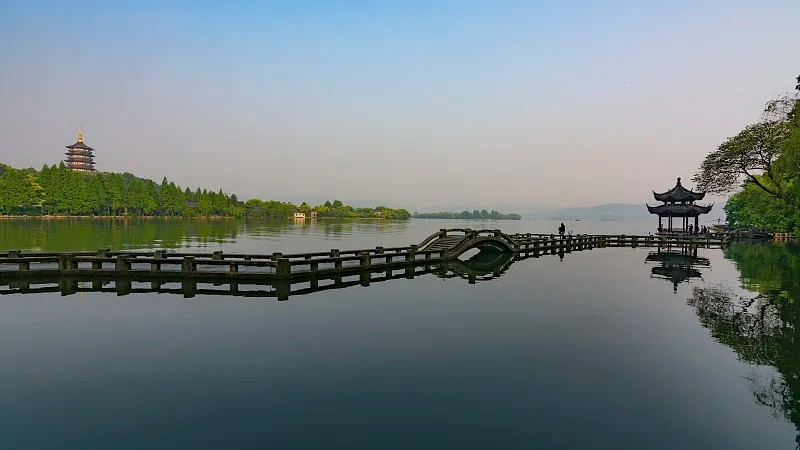Leifeng: (65, 128, 97, 174)
